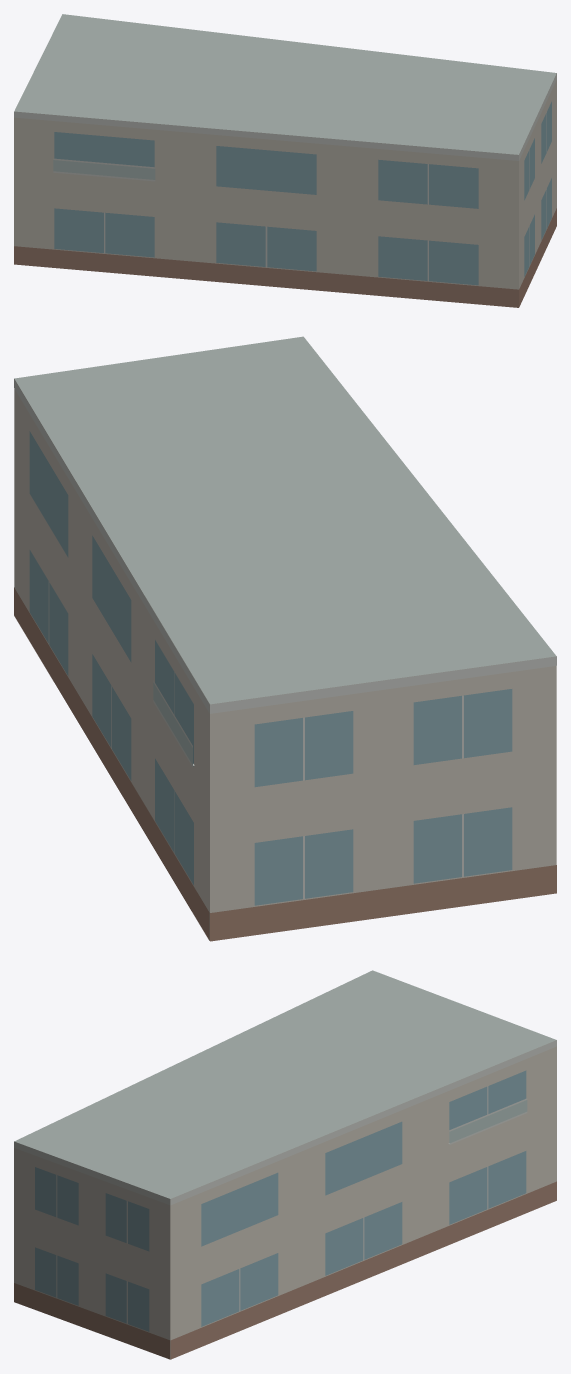
Rendered from survey-upis-32577682.glb.
The picture shows the model from 3 angles, top to bottom: view 1: azimuth 30°, elevation 25°; view 2: azimuth 150°, elevation 25°; view 3: azimuth 270°, elevation 25°; orthographic projection. The views are drawn at different scales.
Parts seen in each view (by area): view 1: survey-upis-32577682.tmp; view 2: survey-upis-32577682.tmp; view 3: survey-upis-32577682.tmp.
Boxes of the visible parts, box(x1,y1,x2,y2) form: survey-upis-32577682.tmp: box(14, 14, 556, 307); survey-upis-32577682.tmp: box(14, 336, 556, 941); survey-upis-32577682.tmp: box(14, 970, 556, 1359).
Bounding box in the file's own units: 18.64 × 6.1 × 18.69.
